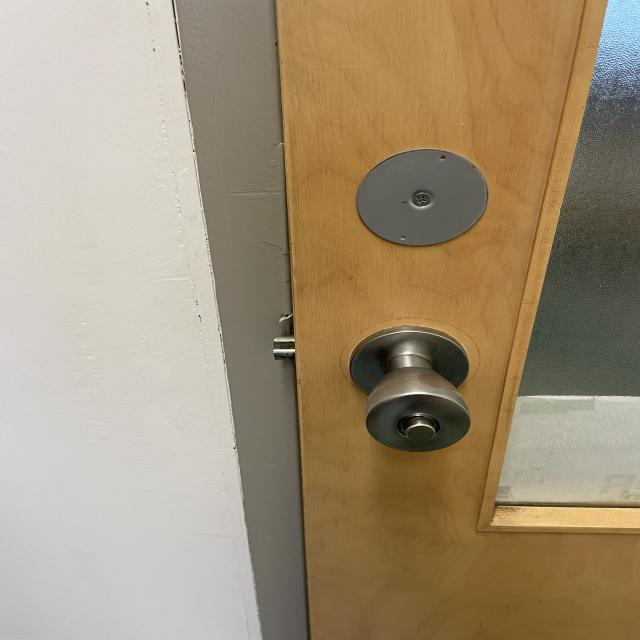door-knob: (350, 325, 470, 451)
